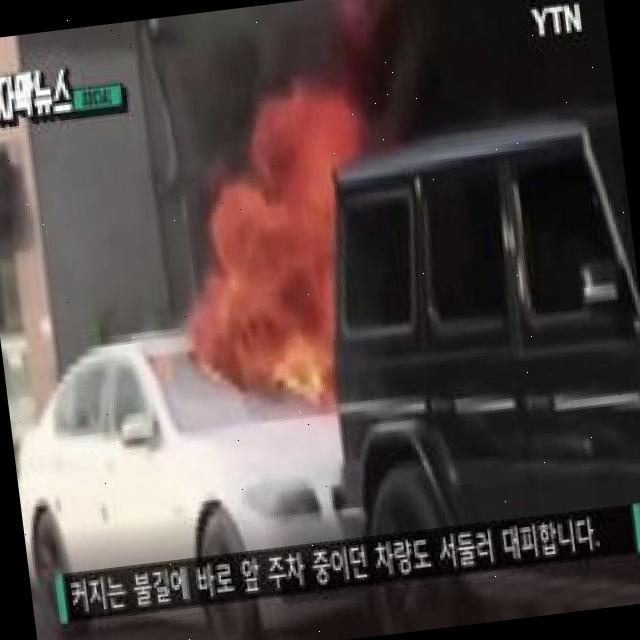fire: (198, 89, 392, 405)
